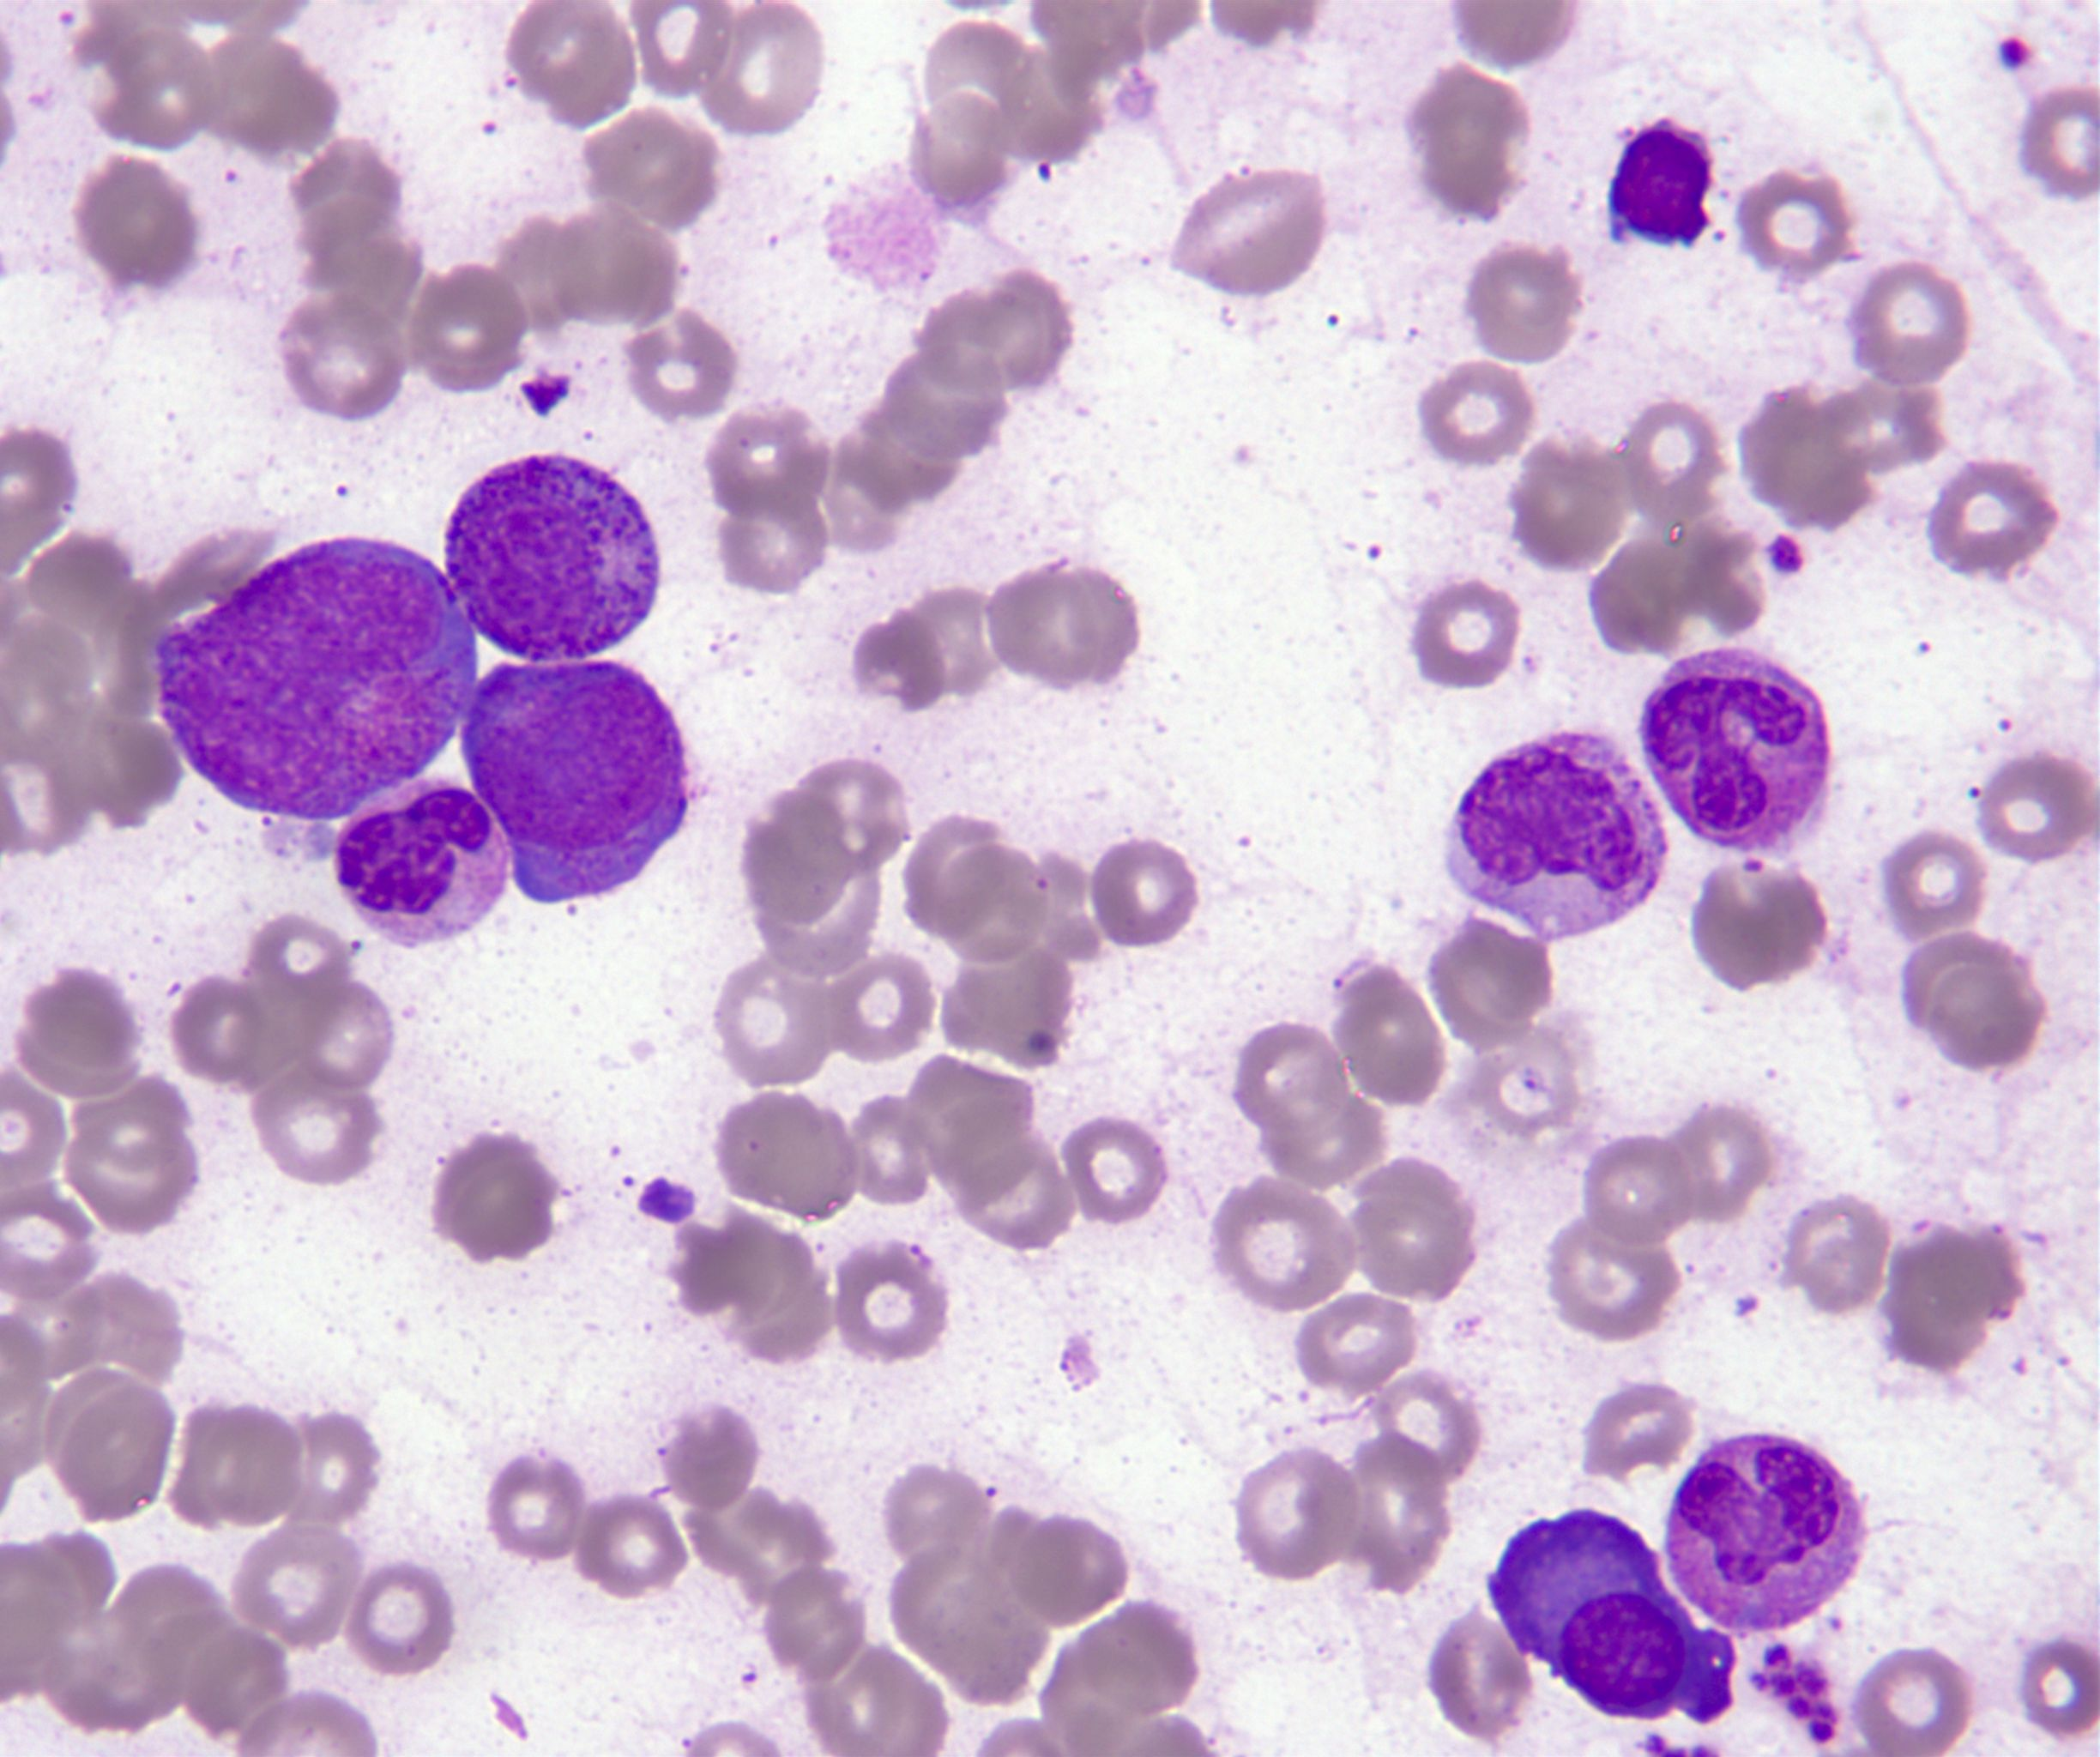1: (460, 663, 685, 902)
2: (152, 539, 476, 820)
3: (448, 457, 659, 661)
32: (1610, 117, 1713, 250)
42: (1666, 1436, 1868, 1631)
5: (1640, 649, 1828, 851), (335, 780, 511, 947)
52: (1488, 1509, 1734, 1722)
x: (1449, 729, 1666, 942)
